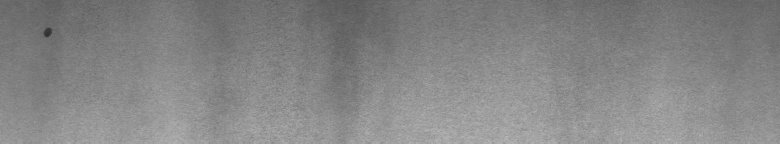fi: (40, 20, 56, 44)
